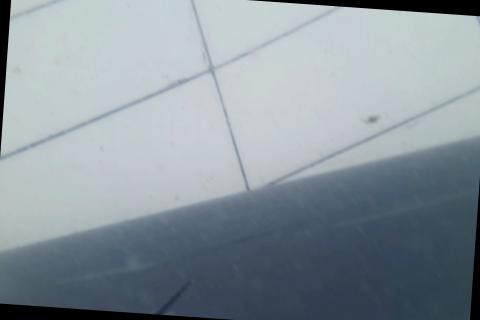keretakan: (134, 274, 191, 317)
